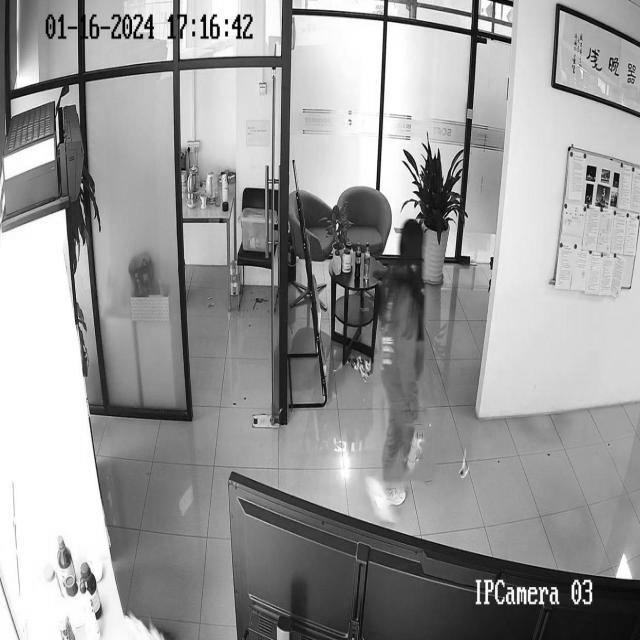smoke: (350, 352, 376, 382), (455, 450, 468, 483)
